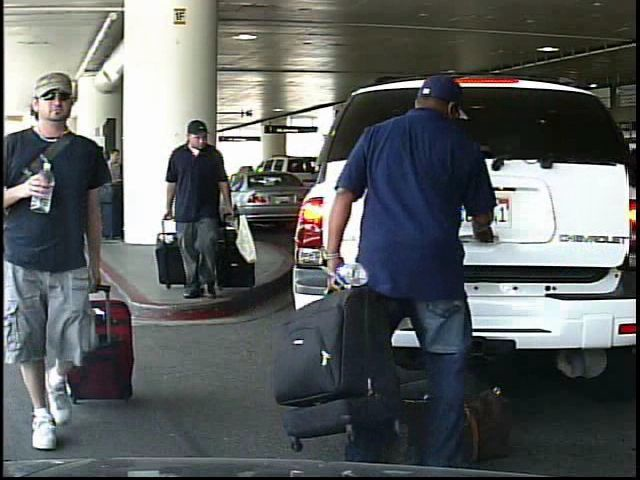person: (324, 75, 517, 474), (5, 76, 142, 460), (158, 118, 249, 303)
